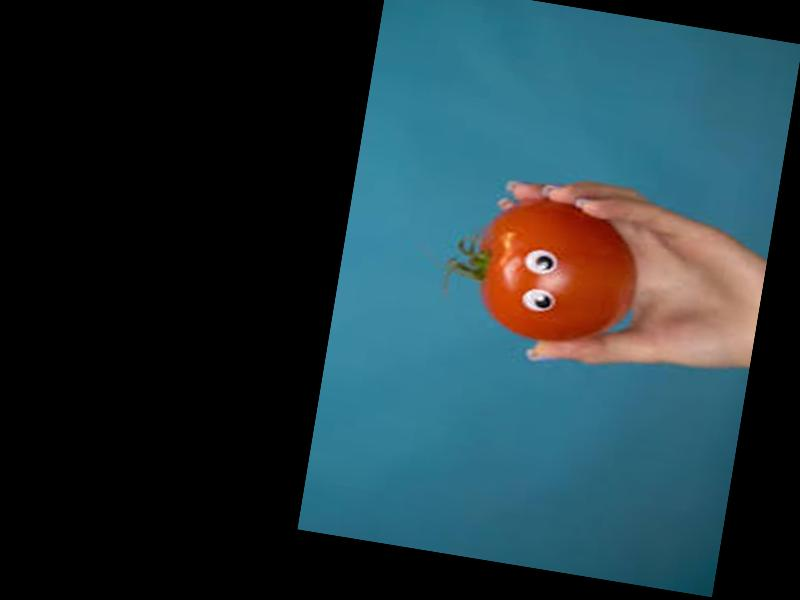Tomato: (464, 188, 648, 355)
